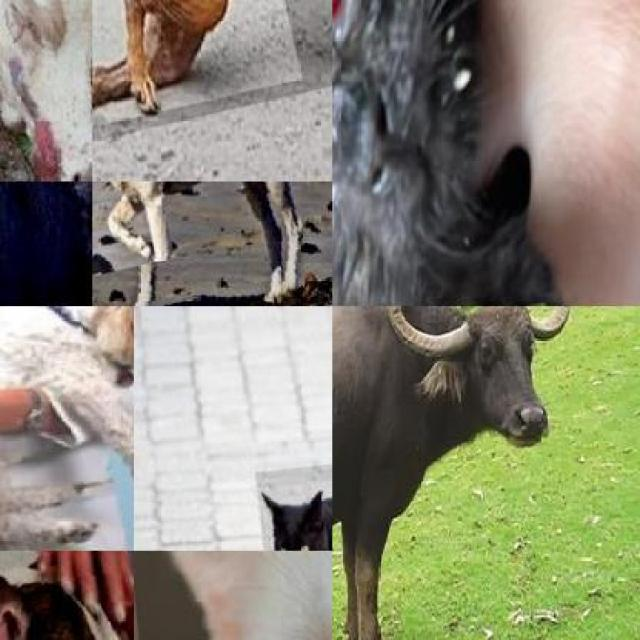buffalo: (332, 306, 530, 640)
cat: (332, 0, 540, 306), (255, 442, 332, 550)
dog: (92, 0, 332, 160), (92, 182, 332, 306)
injured: (92, 0, 302, 143), (92, 181, 176, 277)
